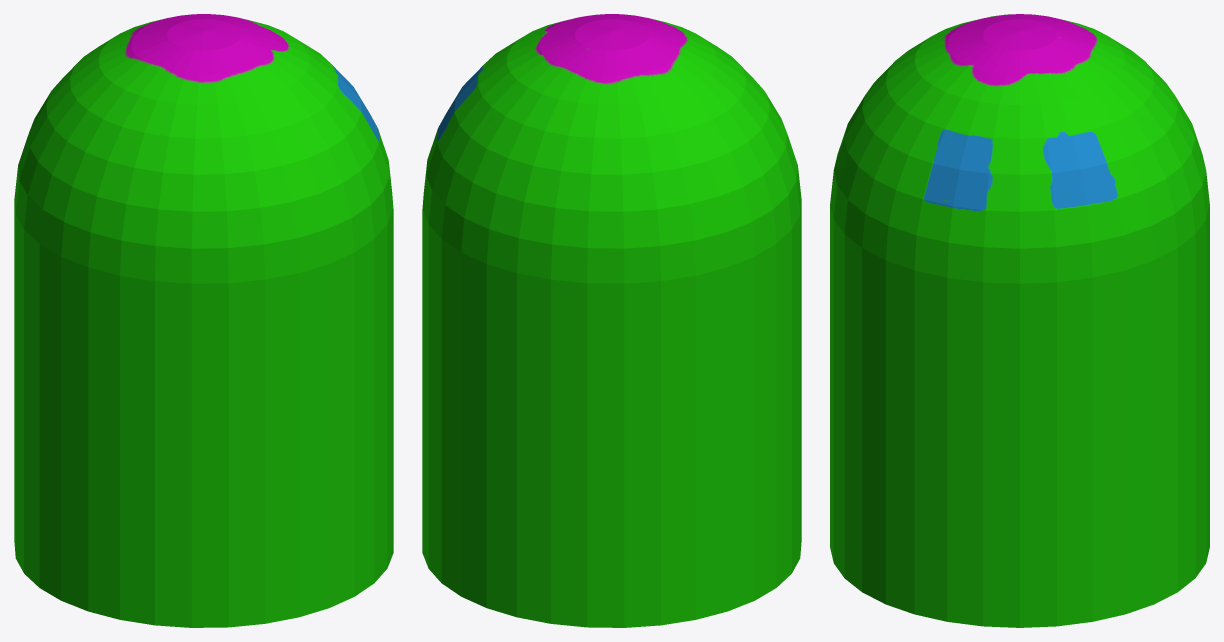
File: person.glb
The picture shows the model from 3 angles, left to right: view 1: azimuth 30°, elevation 25°; view 2: azimuth 150°, elevation 25°; view 3: azimuth 270°, elevation 25°; orthographic projection.
Visible parts, largest first — view 1: Sphere; view 2: Sphere; view 3: Sphere.
Part boxes in pixels (bbox=[...]): Sphere: bbox=[14, 14, 393, 627]; Sphere: bbox=[422, 14, 801, 627]; Sphere: bbox=[830, 14, 1209, 627].
Bounding box in the file's own units: 5 × 7.5 × 5.
1 material, 1 textured.
